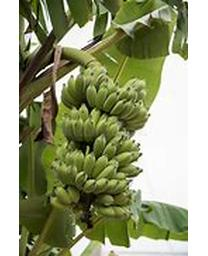banana: (51, 66, 151, 226)
